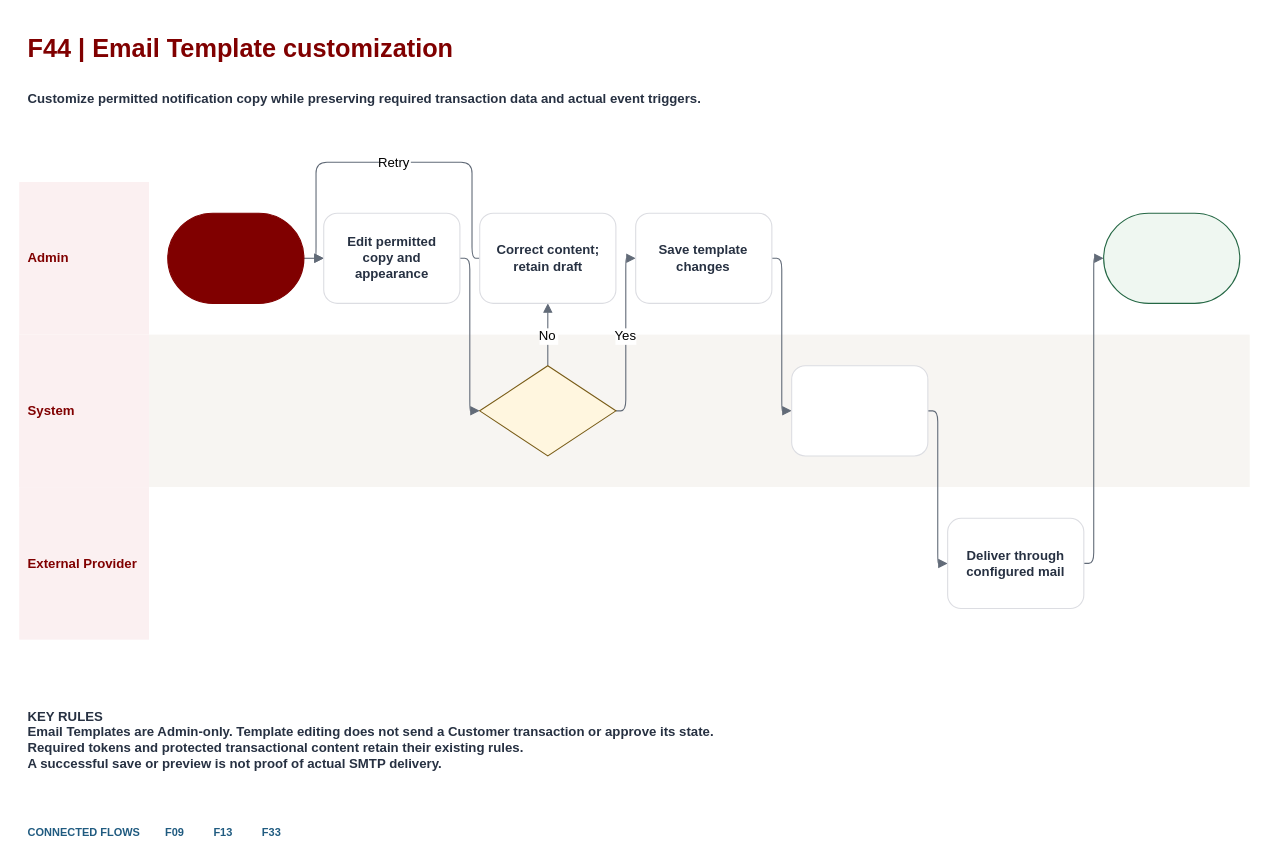
The diagram is 1268 pixels wide and 860 high, and some of its shapes have lost their labels. The centre of each missing label's shape, as x and y in pixels:
"Choose template" goes at pixel 235 257.
"Preview valid?" goes at pixel 547 410.
"Read saved template state" goes at pixel 1171 257.
"Render template when event occurs" goes at pixel 859 410.
